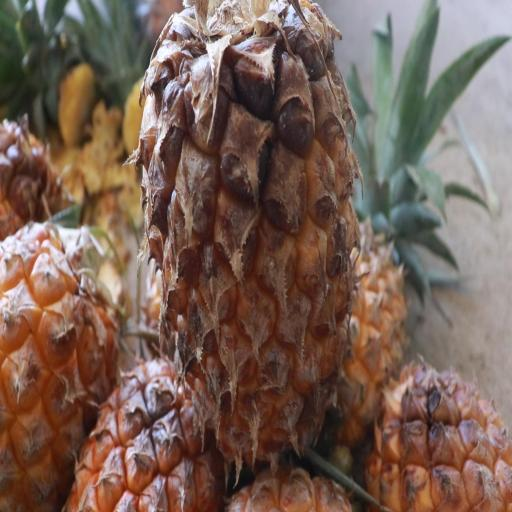Pineapple - v8 v1: (135, 0, 362, 473), (0, 204, 124, 512), (64, 336, 228, 512), (361, 359, 512, 512)
